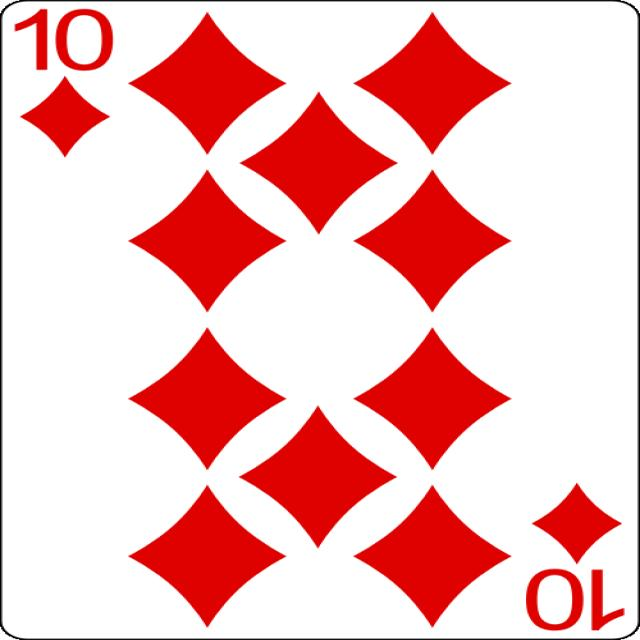Diamond: (354, 10, 513, 156), (352, 326, 514, 469), (127, 12, 287, 156), (127, 483, 287, 627), (353, 169, 512, 313), (240, 92, 400, 234), (127, 170, 287, 312), (128, 328, 288, 470), (238, 406, 398, 548), (352, 485, 512, 627), (19, 76, 111, 158), (532, 483, 623, 562)
